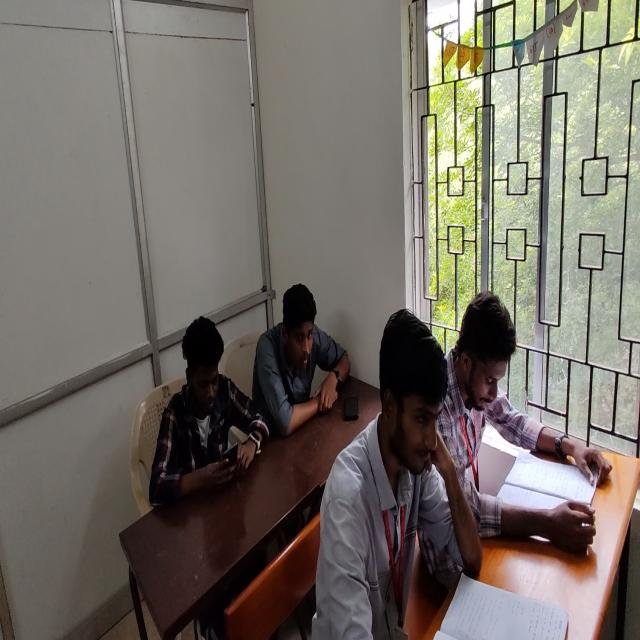listening: (252, 281, 347, 440)
reading: (328, 310, 498, 639), (435, 289, 613, 556)
using_mobile: (151, 312, 273, 505)
